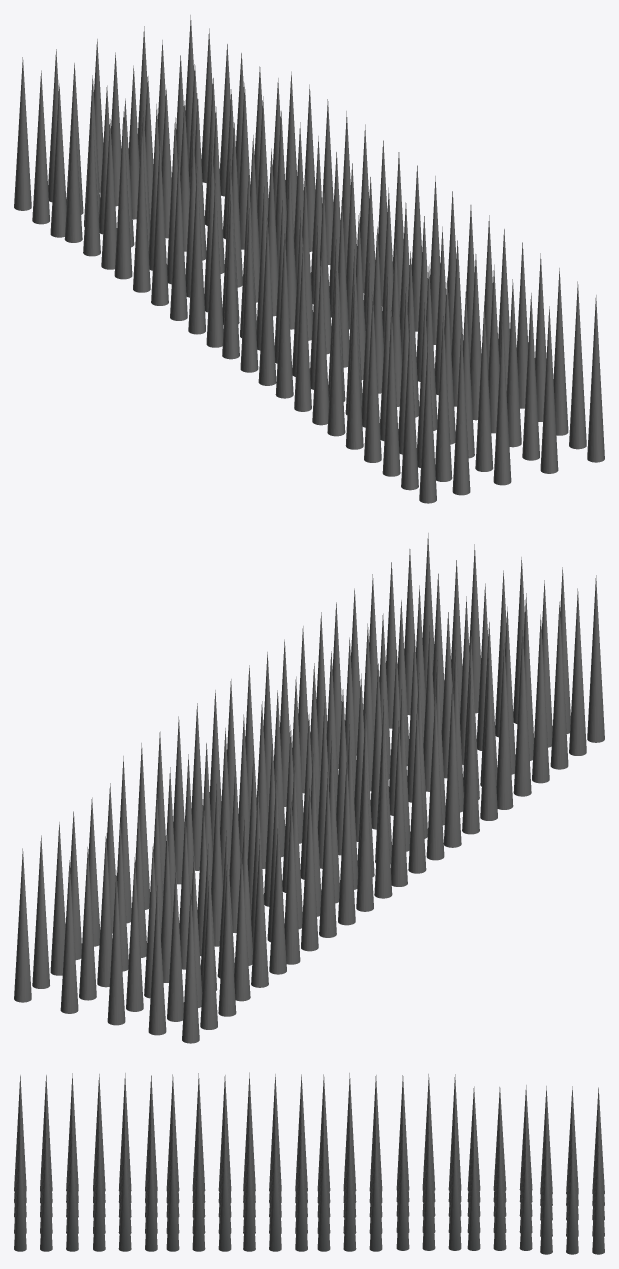
File: spike.obj
The picture shows the model from 3 angles, top to bottom: view 1: azimuth 30°, elevation 25°; view 2: azimuth 150°, elevation 25°; view 3: azimuth 270°, elevation 25°; orthographic projection. The views are drawn at different scales.
Parts seen in each view (by area): view 1: Cone; view 2: Cone; view 3: Cone.
Part boxes in pixels (box(x1,y1,x2,y2)): Cone: box(14, 15, 604, 503); Cone: box(14, 533, 604, 1043); Cone: box(14, 1072, 604, 1254).
Size of the model in its own units: 4.1 by 3.62 by 16.03.
